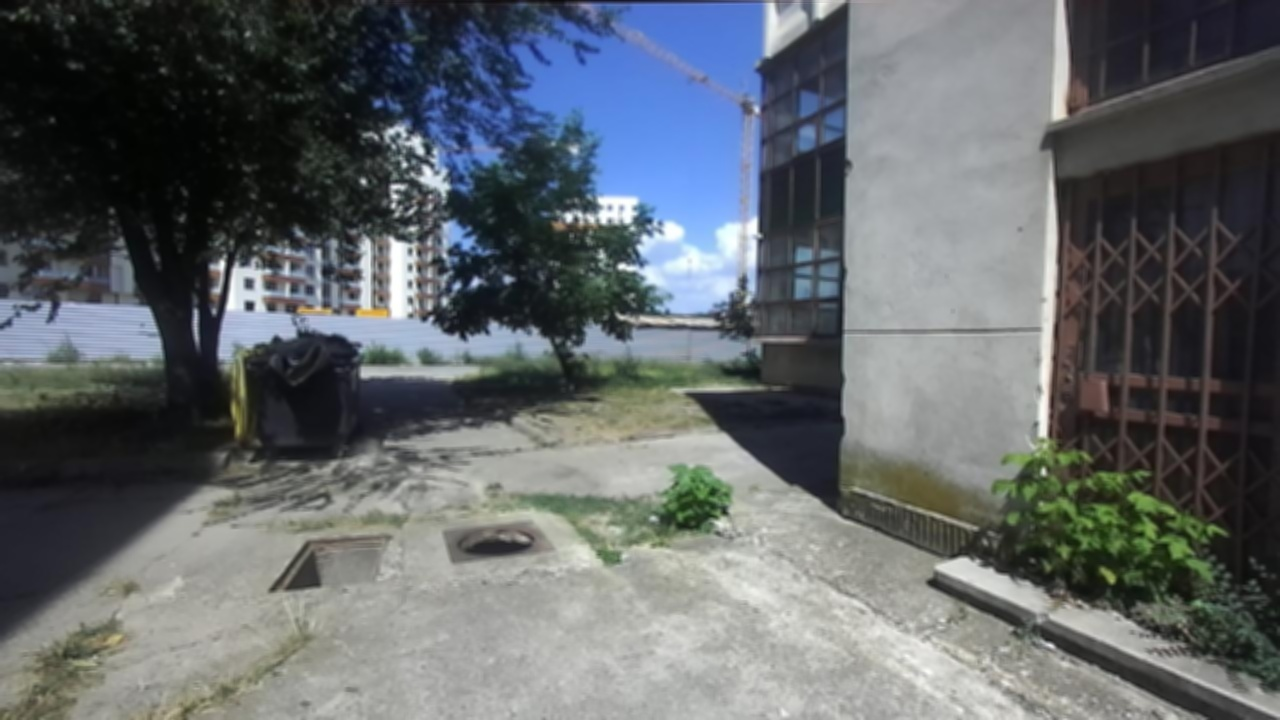drain: (263, 530, 392, 596), (450, 520, 537, 560)
